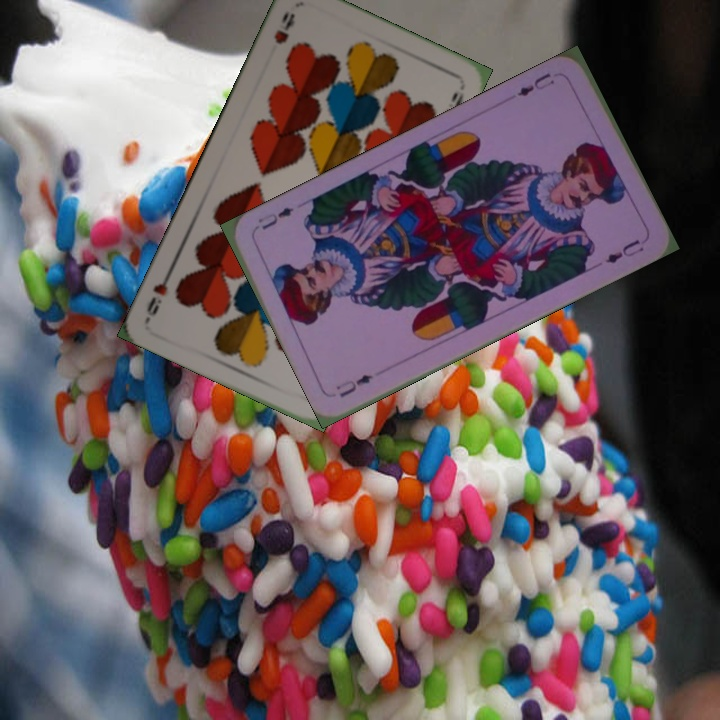EU: (513, 68, 557, 99), (332, 370, 376, 401)
H9: (269, 8, 298, 47)
